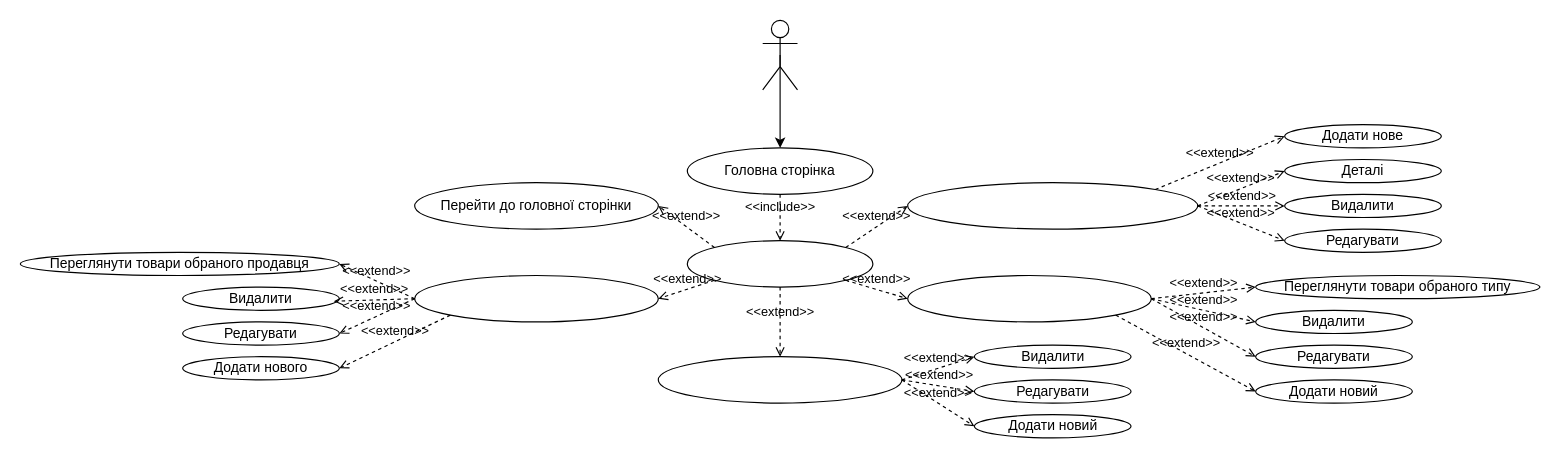
Some shapes in this 1560 by 458 pixel diagram are drawn without their labels. The shapes that lost their labels are listed below. From the top down, each one's centre as x and y in pixels, then its label:
At point 780,54: "Користувач".
At point 1052,205: "Перейти до списку місць проведення".
At point 779,263: "Header".
At point 536,298: "Перейти до списку продавців".
At point 1029,298: "Перейти до списку типів товарів".
At point 779,379: "Перейти до списку товарів".
